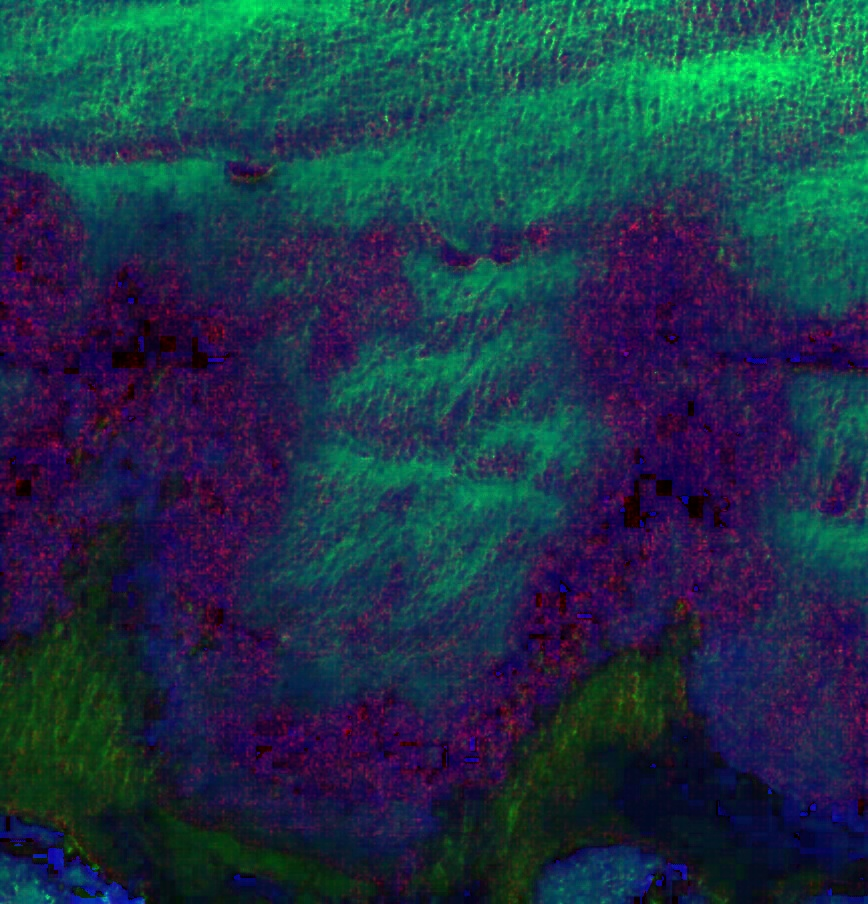rip_current: (211, 174, 622, 699)
